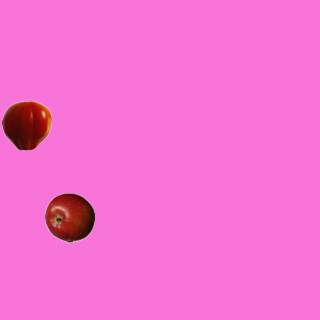Apple Braeburn: (44, 192, 94, 242)
Tomato 1: (1, 100, 51, 150)
